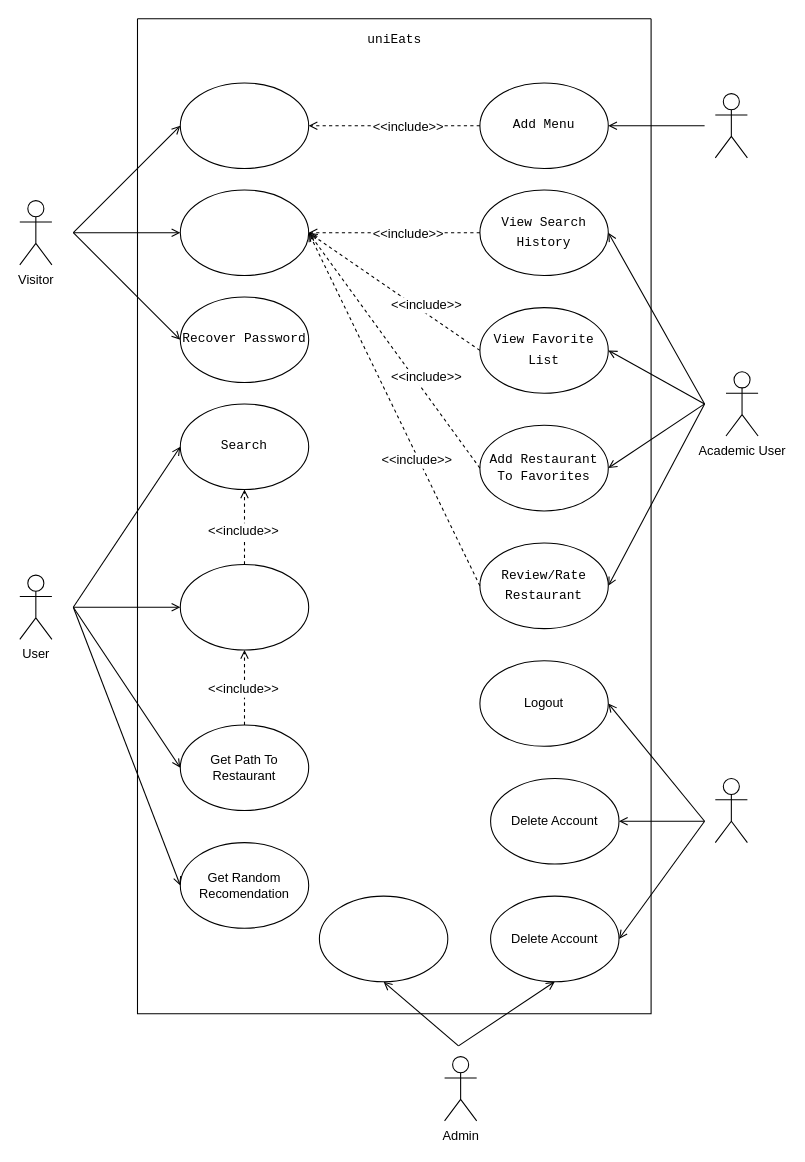
The diagram is 805 pixels wide and 1162 high, and some of its shapes have lost their labels. Each missing label, with the centre of its shape:
Academic Login: the point at 244,232
Authenticated User: the point at 730,810
Block/Unblock: the point at 383,938
Restaurant Login/Register: the point at 244,125
Restaurant Owner: the point at 730,125
View Restaurant Info and Menu: the point at 244,606
